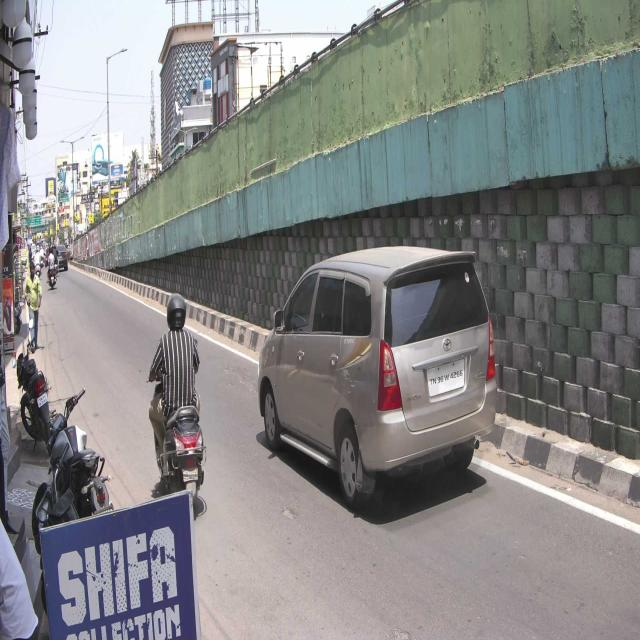single_rider: (146, 289, 207, 510)
